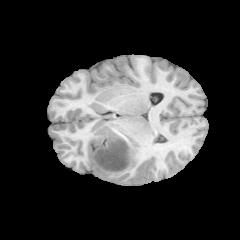glioma: (87, 133, 141, 177)
